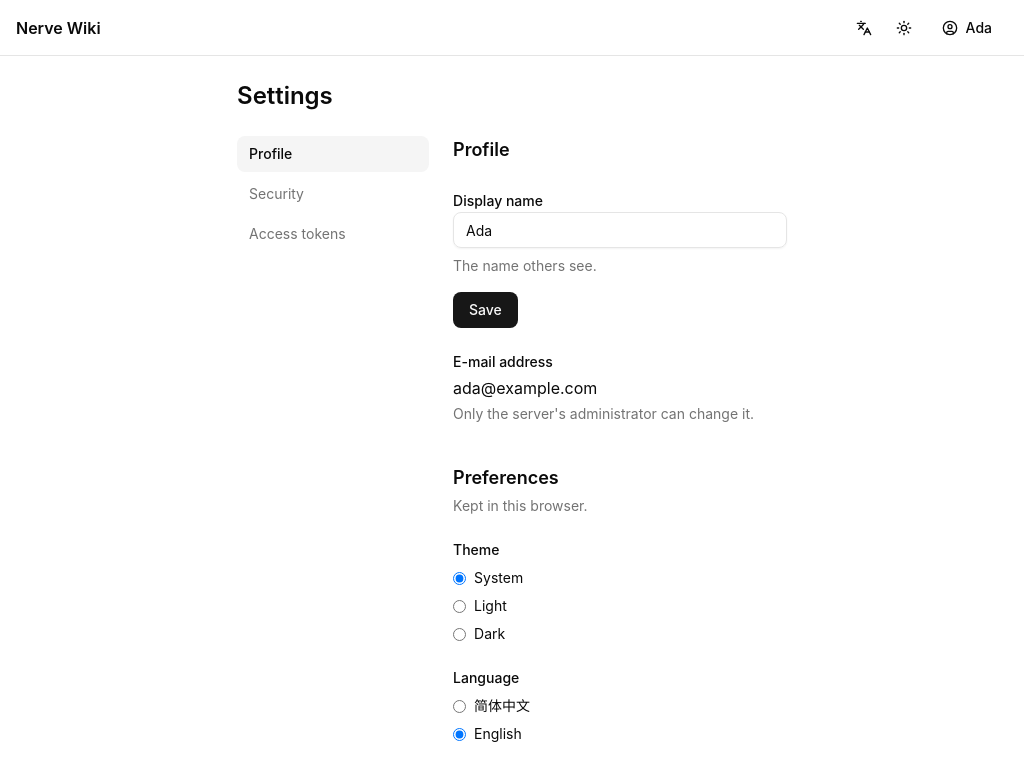
Test case: a name edited while its save is out is not marked saved
Replace the text in the field labelled "Display name" with "First name" at (620, 230), box x1=453 y1=212 x2=787 y2=248
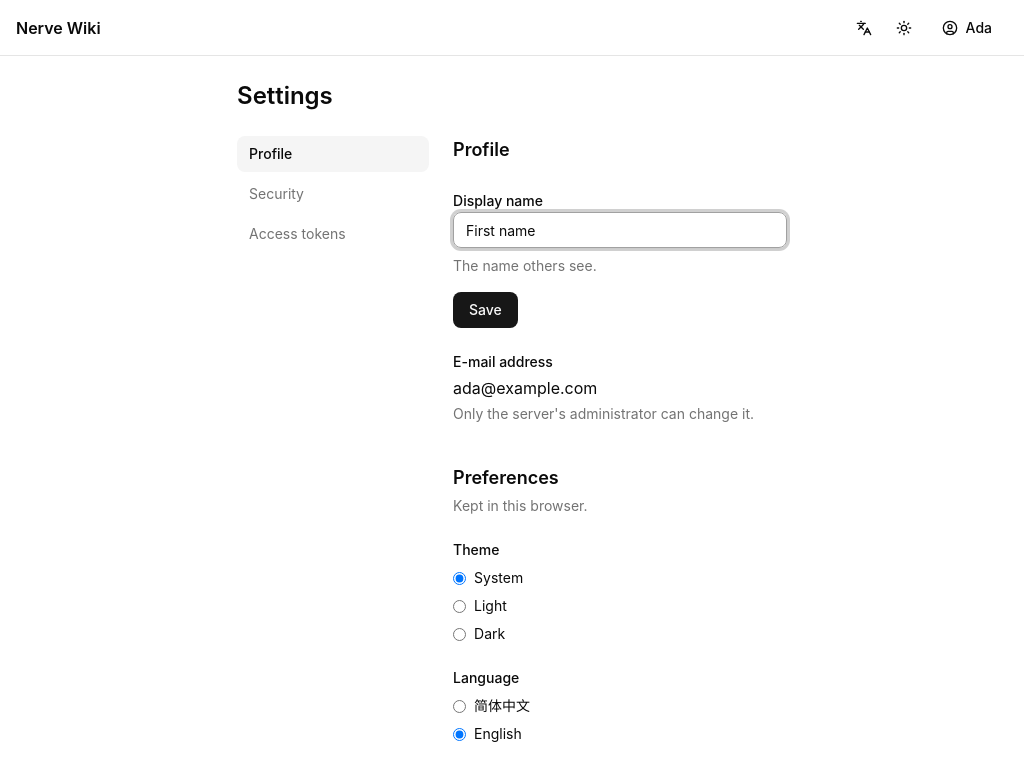
Click the button "Save".
click(485, 310)  # box x1=453 y1=292 x2=518 y2=328
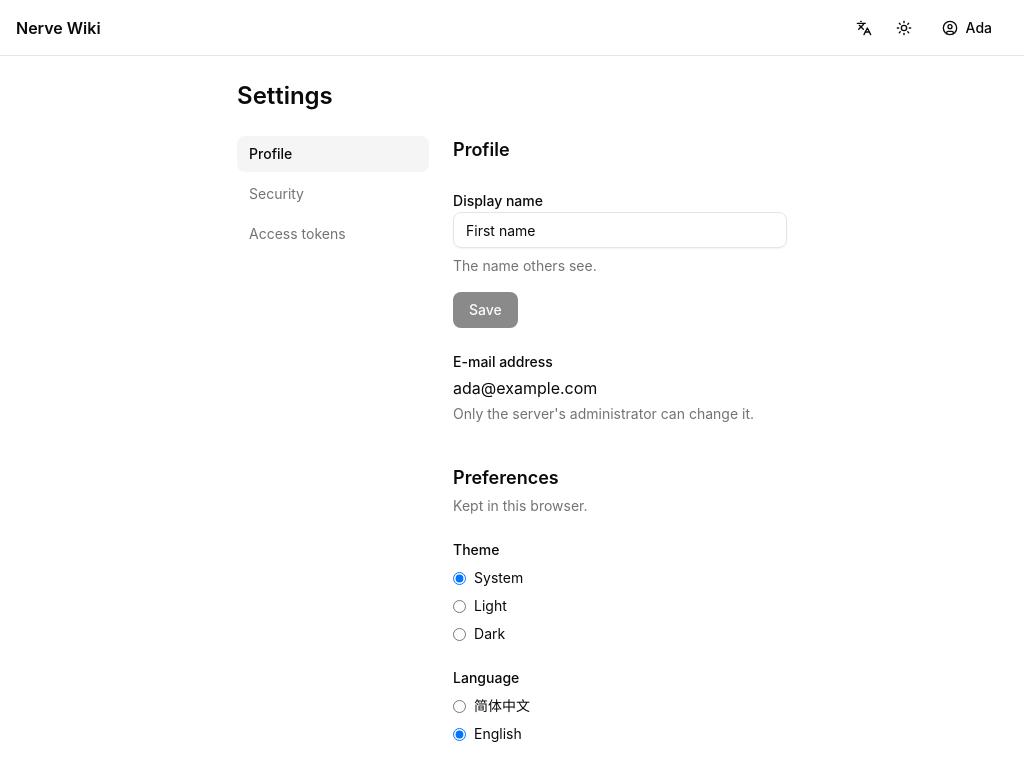
Replace the text in the field labelled "Display name" with "Second name" at (620, 230), box x1=453 y1=212 x2=787 y2=248
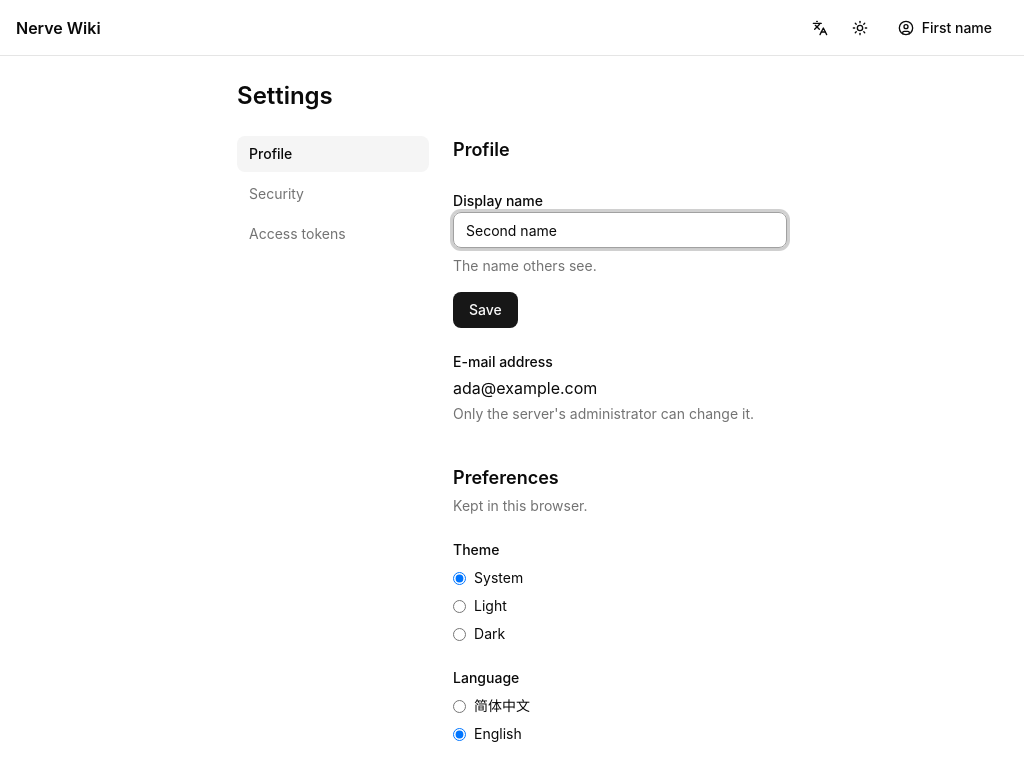
expect the button "Save" is enabled: met
Click the button "Save".
click(485, 310)  # box x1=453 y1=292 x2=518 y2=328
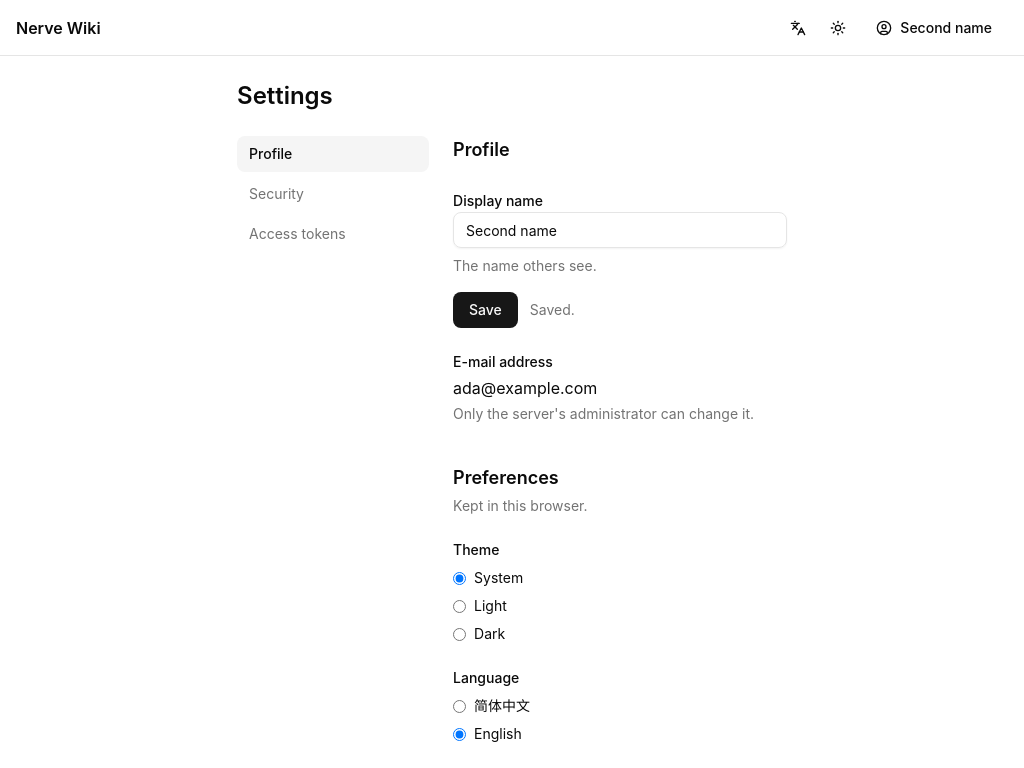
expect the text "Saved." is shown: met, box x1=530 y1=300 x2=575 y2=320
